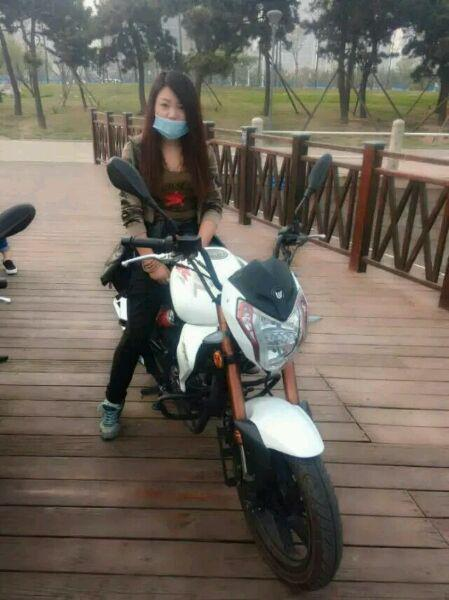WRONG: (147, 92, 195, 140)
